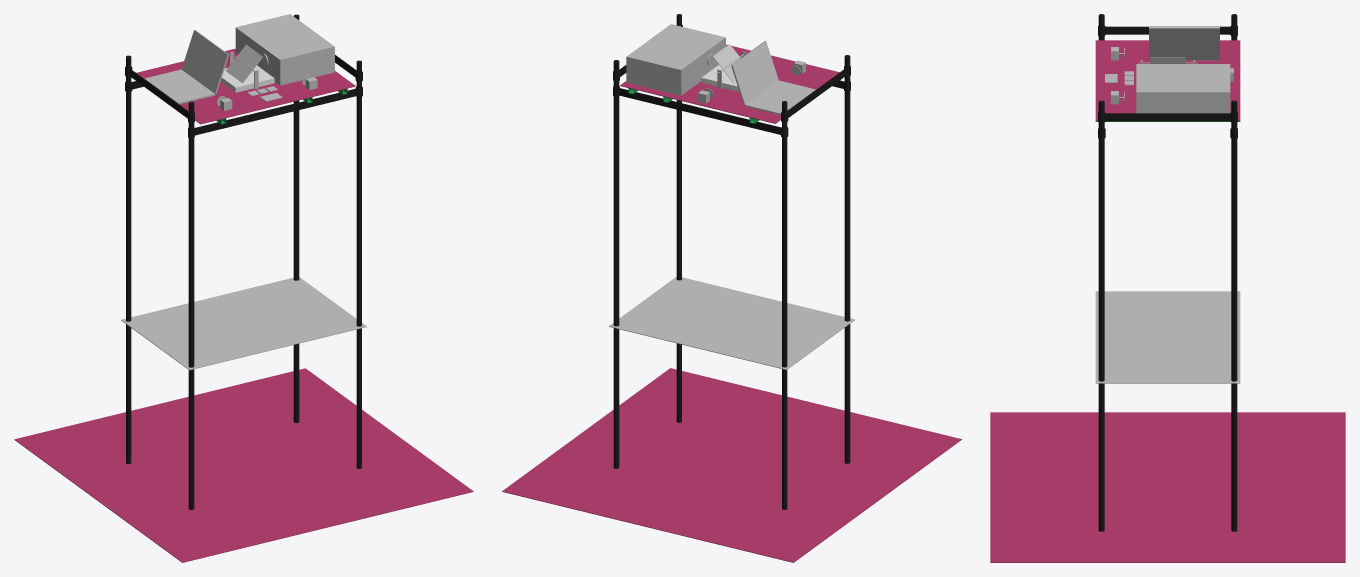
Rendered from top-layout.dae.
3 renders of one model, left to right at view 1: azimuth 30°, elevation 25°; view 2: azimuth 150°, elevation 25°; view 3: azimuth 270°, elevation 25°, orthographic. The views are drawn at different scales.
Visible parts, largest first — view 1: Floor, Middle_Panel, Projector, Top_Panel, MacBook_Air, Pillar_002, Pillar_003, Pillar_001, Pillar, Wire_Bar, Mirror_001, Hole; view 2: Floor, Middle_Panel, Projector, Top_Panel, MacBook_Air, Pillar, Pillar_002, Pillar_001, Pillar_003, Wire_Bar_001; view 3: Floor, Middle_Panel, Projector, Top_Panel, Pillar, Pillar_003, MacBook_Air, Wire_Bar_003, Wire_Bar_002.
Part boxes in pixels (x1,y1,x2,y2): Floor: (14,368,473,562); Middle_Panel: (121,277,366,370); Projector: (235,14,334,85); Top_Panel: (136,48,355,124); MacBook_Air: (144,30,228,104); Pillar_002: (188,101,194,509); Pillar_003: (356,60,361,468); Pillar_001: (126,55,131,463); Pillar: (293,14,299,422); Wire_Bar: (195,88,356,135); Mirror_001: (226,44,262,83); Hole: (220,65,274,92); Floor: (502,368,961,562); Middle_Panel: (609,277,854,369); Projector: (626,24,725,95); Top_Panel: (620,44,839,123); MacBook_Air: (731,41,815,115); Pillar: (613,60,619,468); Pillar_002: (844,55,850,463); Pillar_001: (782,101,787,509); Pillar_003: (676,14,681,422); Wire_Bar_001: (619,88,780,134); Floor: (990,412,1345,562); Middle_Panel: (1095,291,1240,383); Projector: (1136,64,1230,113); Top_Panel: (1095,40,1240,120); Pillar: (1231,100,1237,531); Pillar_003: (1098,100,1104,531); MacBook_Air: (1149,27,1219,60); Wire_Bar_003: (1105,113,1230,121); Wire_Bar_002: (1105,26,1230,34).
Bounding box in the file's own units: 1500 × 1500 × 2087.
